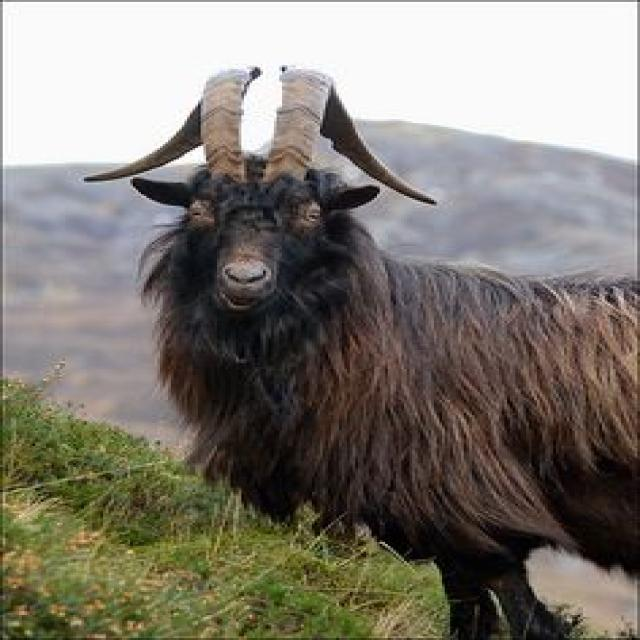Herbivorous: (84, 67, 640, 640)
